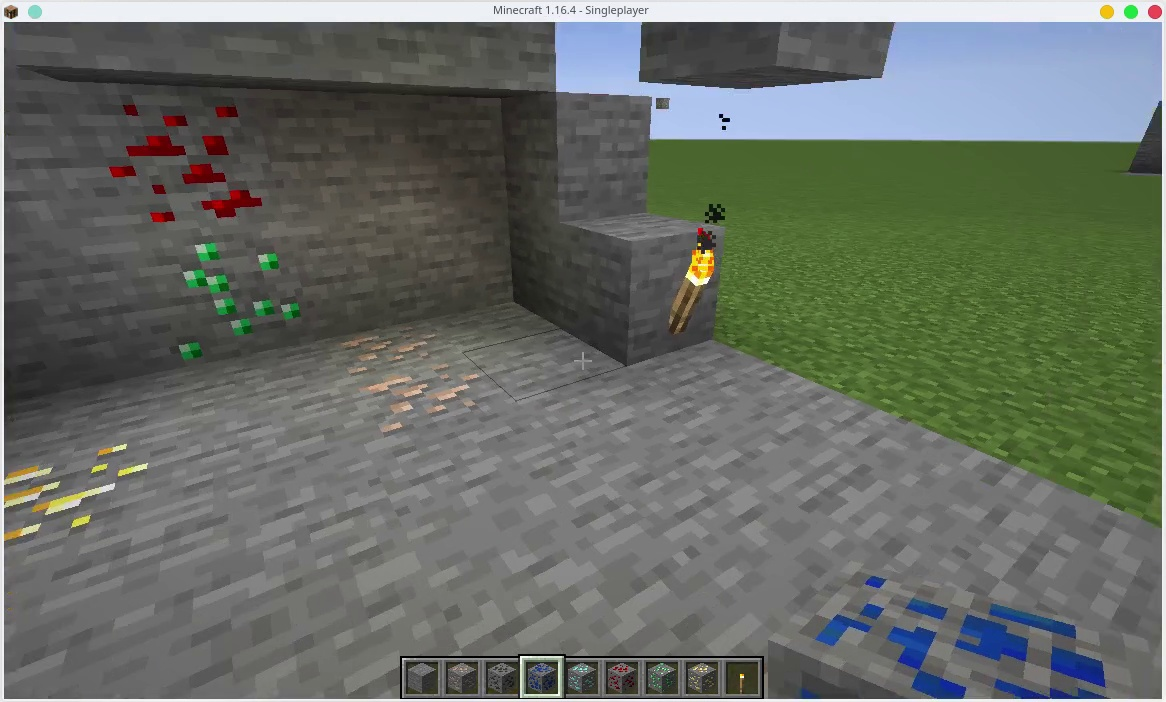gold: (3, 433, 155, 558), (685, 661, 715, 696)
